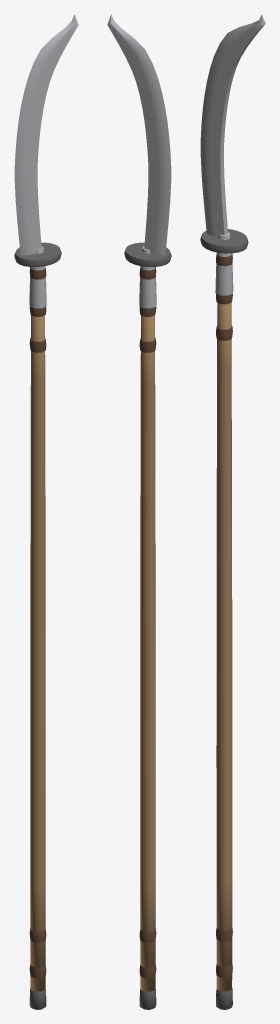
The model's file is naginata.glb.
3 views of the same model, side by side, from view 1: azimuth 30°, elevation 25°; view 2: azimuth 150°, elevation 25°; view 3: azimuth 330°, elevation 25° (orthographic).
Visible parts, largest first — view 1: naginata; view 2: naginata; view 3: naginata.
Part boxes in pixels (x1,y1,x2,y2): naginata: (14,14,78,1009); naginata: (107,14,171,1009); naginata: (200,14,265,1009).
Bounding box in the file's own units: 0.3635 × 5.51 × 0.2074.
